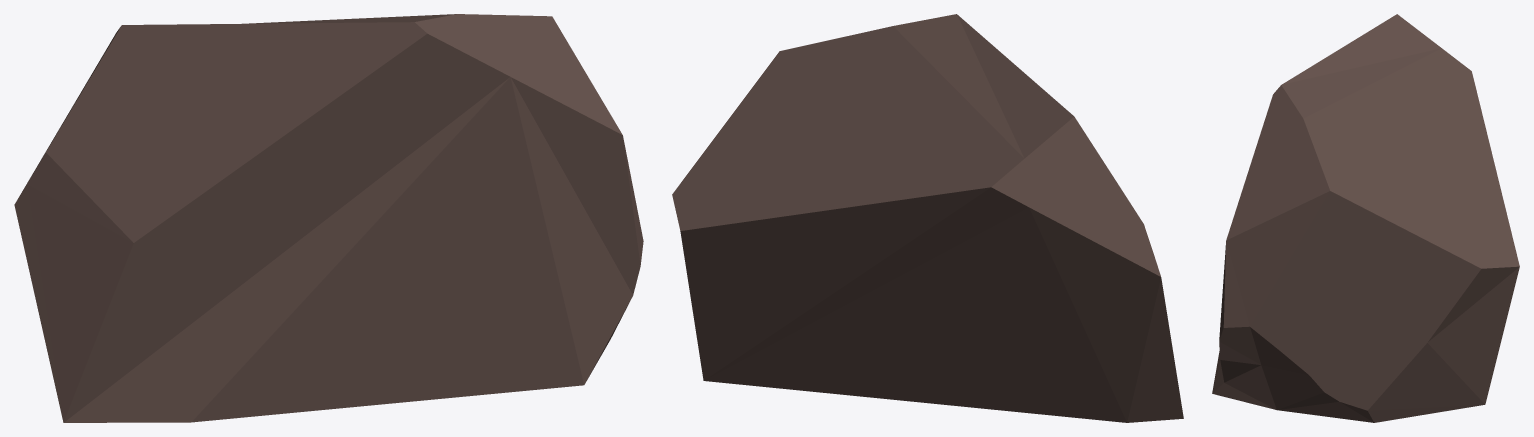
Rendered from Cliff shard 5.fbx.
3 renders of one model, left to right at view 1: azimuth 30°, elevation 25°; view 2: azimuth 150°, elevation 25°; view 3: azimuth 270°, elevation 25°, orthographic. The views are drawn at different scales.
Visible parts, largest first — view 1: Cliff shard 5; view 2: Cliff shard 5; view 3: Cliff shard 5.
Boxes of the visible parts, <box> form: Cliff shard 5: <box>14,14,643,422</box>; Cliff shard 5: <box>672,14,1183,422</box>; Cliff shard 5: <box>1212,14,1519,422</box>.
Bounding box in the file's own units: 1.21 × 0.7843 × 0.8268.
